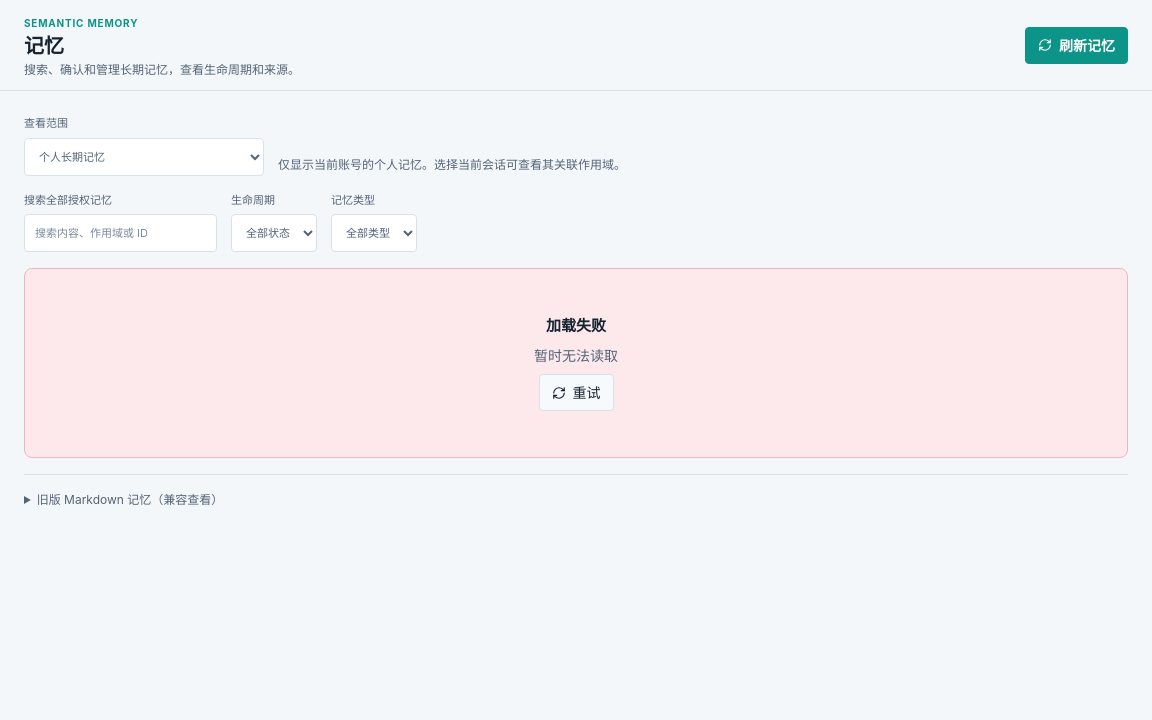
Test: semantic memory console › shows an HTTP error and retries without leaking an old result
Check: the message shows "暂时无法读取", box [534,347,618,364]
Click the button "重试": {"x": 576, "y": 393} [538,374,614,411]
(page scrolled)
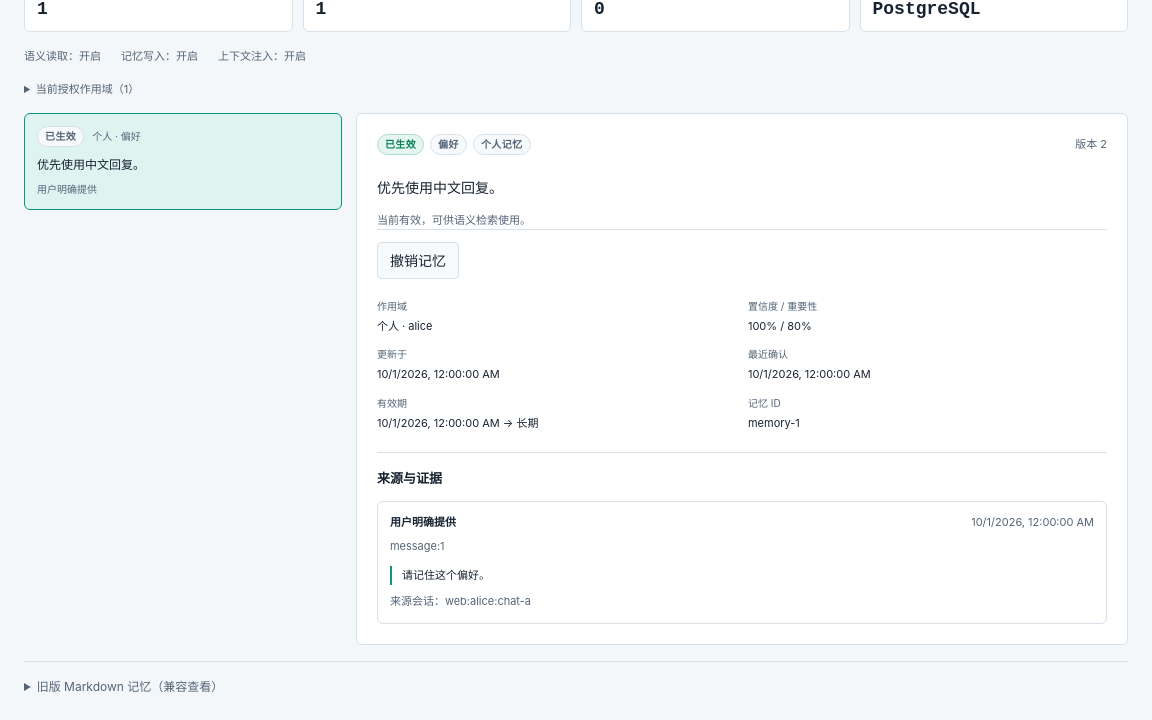
Check: the element named "记忆详情" is shown, box [356,113,1128,644]
Check: the message "加载失败 暂时无法读取 重试" is gone
